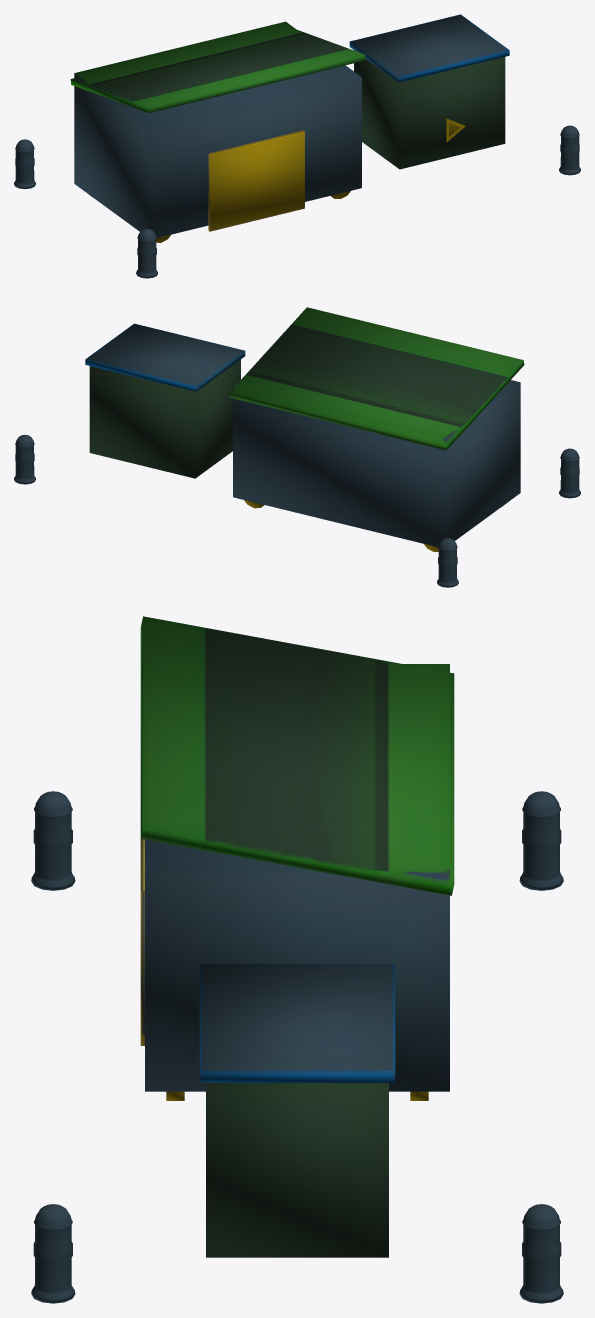
Rendered from yard-dumpster-body-tripo-original.glb.
The picture shows the model from 3 angles, top to bottom: view 1: azimuth 30°, elevation 25°; view 2: azimuth 150°, elevation 25°; view 3: azimuth 270°, elevation 25°; orthographic projection. The views are drawn at different scales.
Parts seen in each view (by area): view 1: Authored_surface_046; view 2: Authored_surface_046; view 3: Authored_surface_046.
Part boxes in pixels (box(x1,y1,x2,y2)): Authored_surface_046: box(14, 14, 580, 278); Authored_surface_046: box(14, 307, 580, 587); Authored_surface_046: box(31, 616, 563, 1303).
Size of the model in its own units: 1 by 0.3119 by 0.5215.
1 material, 1 textured.
